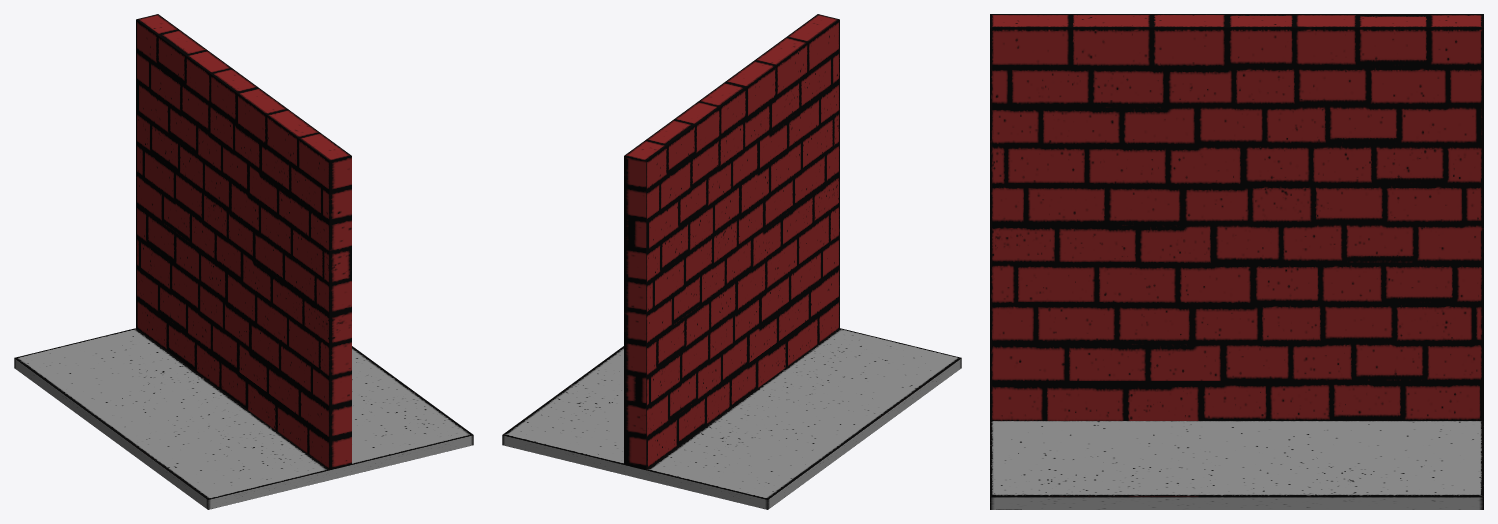
File: brickWall.obj
3 renders of one model, left to right at view 1: azimuth 30°, elevation 25°; view 2: azimuth 150°, elevation 25°; view 3: azimuth 270°, elevation 25°, orthographic. The views are drawn at different scales.
Parts seen in each view (by area): view 1: Cube; view 2: Cube; view 3: Cube.
Part boxes in pixels (left/top/right/bottom): Cube: left=14, top=14, right=473, bottom=509; Cube: left=502, top=14, right=961, bottom=509; Cube: left=990, top=14, right=1483, bottom=509.
Bounding box in the file's own units: 8.01 × 9.2 × 10.13.
